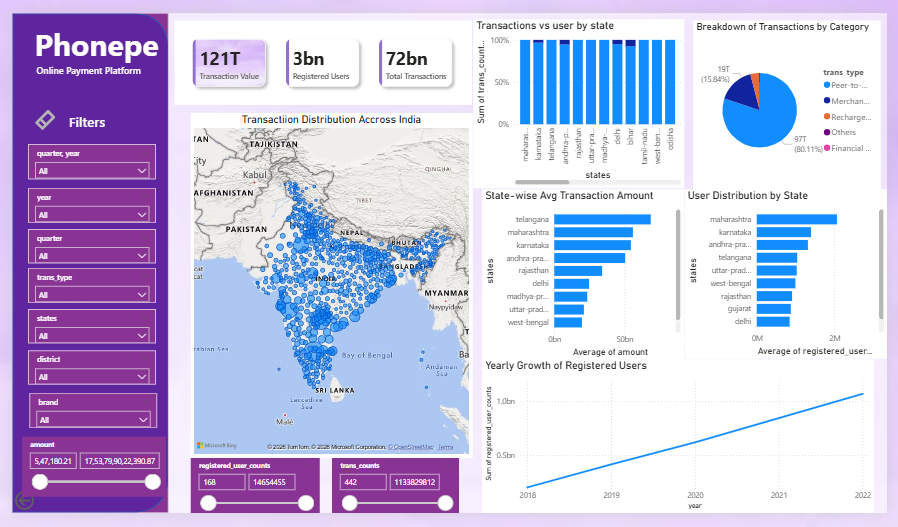

The page's visual inventory and layout, read from the dashboard file:
{"tool":"powerbi","page":{"name":"Page 1","canvas":[1400,800],"ordinal":0},"visuals":[{"type":"shape","box":[0,0,250.7,800.3],"z":0},{"type":"textbox","box":[28.2,12.1,214.5,80.4],"z":1000},{"type":"textbox","box":[34.9,75.1,201.1,34.9],"z":2000},{"type":"cardVisual","fields":{"Data":["aggregated_transaction.Total Amount","aggregated_transaction.Total Users","aggregated_transaction.Total Count"]},"box":[260.1,12.1,475.9,135.4],"z":3000},{"type":"map","title":"Transactiion Distribution Accross India","fields":{"Category":["map_transaction.district","map_transaction.states"],"Size":["Sum(map_transaction.amount)"]},"box":[285.7,160,450,551.4],"z":4000},{"type":"hundredPercentStackedColumnChart","title":"Transactions vs  user by state","fields":{"Category":["map_transaction.states"],"Y":["Sum(map_transaction.trans_counts)","Sum(map_user.registered_user_counts)"]},"box":[738.8,10,337.5,270],"z":5000},{"type":"pieChart","title":"Breakdown of Transactions by Category","fields":{"Category":["aggregated_transaction.trans_type"],"Y":["aggregated_transaction.Total Amount"]},"box":[1090,12.9,300,270],"z":6000},{"type":"clusteredBarChart","title":"State-wise Avg Transaction Amount","fields":{"Category":["top_transaction.states"],"Y":["Avg(top_transaction.amount)"]},"box":[752.9,281.4,322.9,272.9],"z":7000},{"type":"clusteredBarChart","title":"User Distribution by State","fields":{"Category":["top_user.states"],"Y":["Avg(top_user.registered_user_counts)"]},"box":[1075.7,282.9,324.3,271.4],"z":8000},{"type":"lineChart","title":"Yearly Growth of Registered Users","fields":{"Category":["top_user.year"],"Y":["Sum(top_user.registered_user_counts)"]},"box":[752.9,554.3,627.1,245.7],"z":9000},{"type":"slicer","fields":{"Values":["aggregated_transaction.year"]},"box":[25.7,280,204.3,55.7],"z":10000},{"type":"slicer","fields":{"Values":["aggregated_transaction.quarter"]},"box":[25.7,345.7,204.3,54.3],"z":11000},{"type":"slicer","fields":{"Values":["aggregated_transaction.trans_type"]},"box":[25.7,407.1,204.3,55.7],"z":12000},{"type":"slicer","fields":{"Values":["aggregated_transaction.states"]},"box":[25.7,474.3,204.3,54.3],"z":13000},{"type":"slicer","fields":{"Values":["aggregated_user.brand"]},"box":[28.6,607.1,204.3,55.7],"z":14000},{"type":"slicer","fields":{"Values":["map_transaction.district"]},"box":[25.7,540,204.3,54.3],"z":15000},{"type":"slicer","fields":{"Values":["top_user.registered_user_counts"]},"box":[285.7,712.9,205.7,87.1],"z":16000},{"type":"slicer","fields":{"Values":["aggregated_transaction.quarter","aggregated_transaction.year"]},"box":[25.7,210,204.3,55.7],"z":17000},{"type":"actionButton","box":[0,760,100,40],"z":18000},{"type":"slicer","fields":{"Values":["top_transaction.trans_counts"]},"box":[511.4,711.4,202.9,88.6],"z":19000},{"type":"slicer","fields":{"Values":["top_transaction.amount"]},"box":[15.7,677.1,230,95.7],"z":20000},{"type":"actionButton","box":[29.5,147.5,50.9,46.9],"z":21000},{"type":"textbox","box":[85.8,154.2,83.1,40.2],"z":22000}]}

Visuals, with their boxes in screenshot pixels (x1, y1, x2, y2), scaled from the page's 1400x800 canvas onto the 898x527 screenshot:
shape: crop(0, 0, 161, 526)
textbox: crop(18, 8, 156, 61)
textbox: crop(22, 49, 151, 72)
cardVisual - aggregated_transaction.Total Amount x aggregated_transaction.Total Users: crop(167, 8, 472, 97)
"Transactiion Distribution Accross India" map: crop(183, 105, 472, 469)
"Transactions vs  user by state" hundredPercentStackedColumnChart: crop(474, 7, 690, 184)
"Breakdown of Transactions by Category" pieChart: crop(699, 8, 892, 186)
"State-wise Avg Transaction Amount" clusteredBarChart: crop(483, 185, 690, 365)
"User Distribution by State" clusteredBarChart: crop(690, 186, 897, 365)
"Yearly Growth of Registered Users" lineChart: crop(483, 365, 885, 526)
slicer - aggregated_transaction.year: crop(16, 184, 148, 221)
slicer - aggregated_transaction.quarter: crop(16, 228, 148, 264)
slicer - aggregated_transaction.trans_type: crop(16, 268, 148, 305)
slicer - aggregated_transaction.states: crop(16, 312, 148, 348)
slicer - aggregated_user.brand: crop(18, 400, 149, 437)
slicer - map_transaction.district: crop(16, 356, 148, 391)
slicer - top_user.registered_user_counts: crop(183, 470, 315, 526)
slicer - aggregated_transaction.quarter x aggregated_transaction.year: crop(16, 138, 148, 175)
actionButton: crop(0, 501, 64, 526)
slicer - top_transaction.trans_counts: crop(328, 469, 458, 526)
slicer - top_transaction.amount: crop(10, 446, 158, 509)
actionButton: crop(19, 97, 52, 128)
textbox: crop(55, 102, 108, 128)
